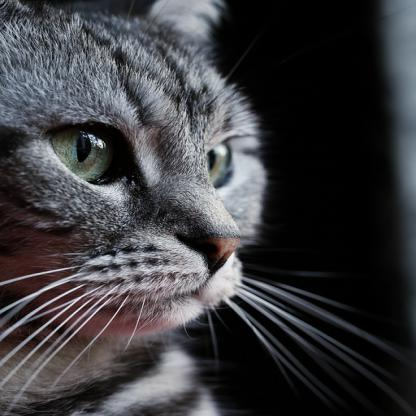cat: (0, 0, 279, 345)
